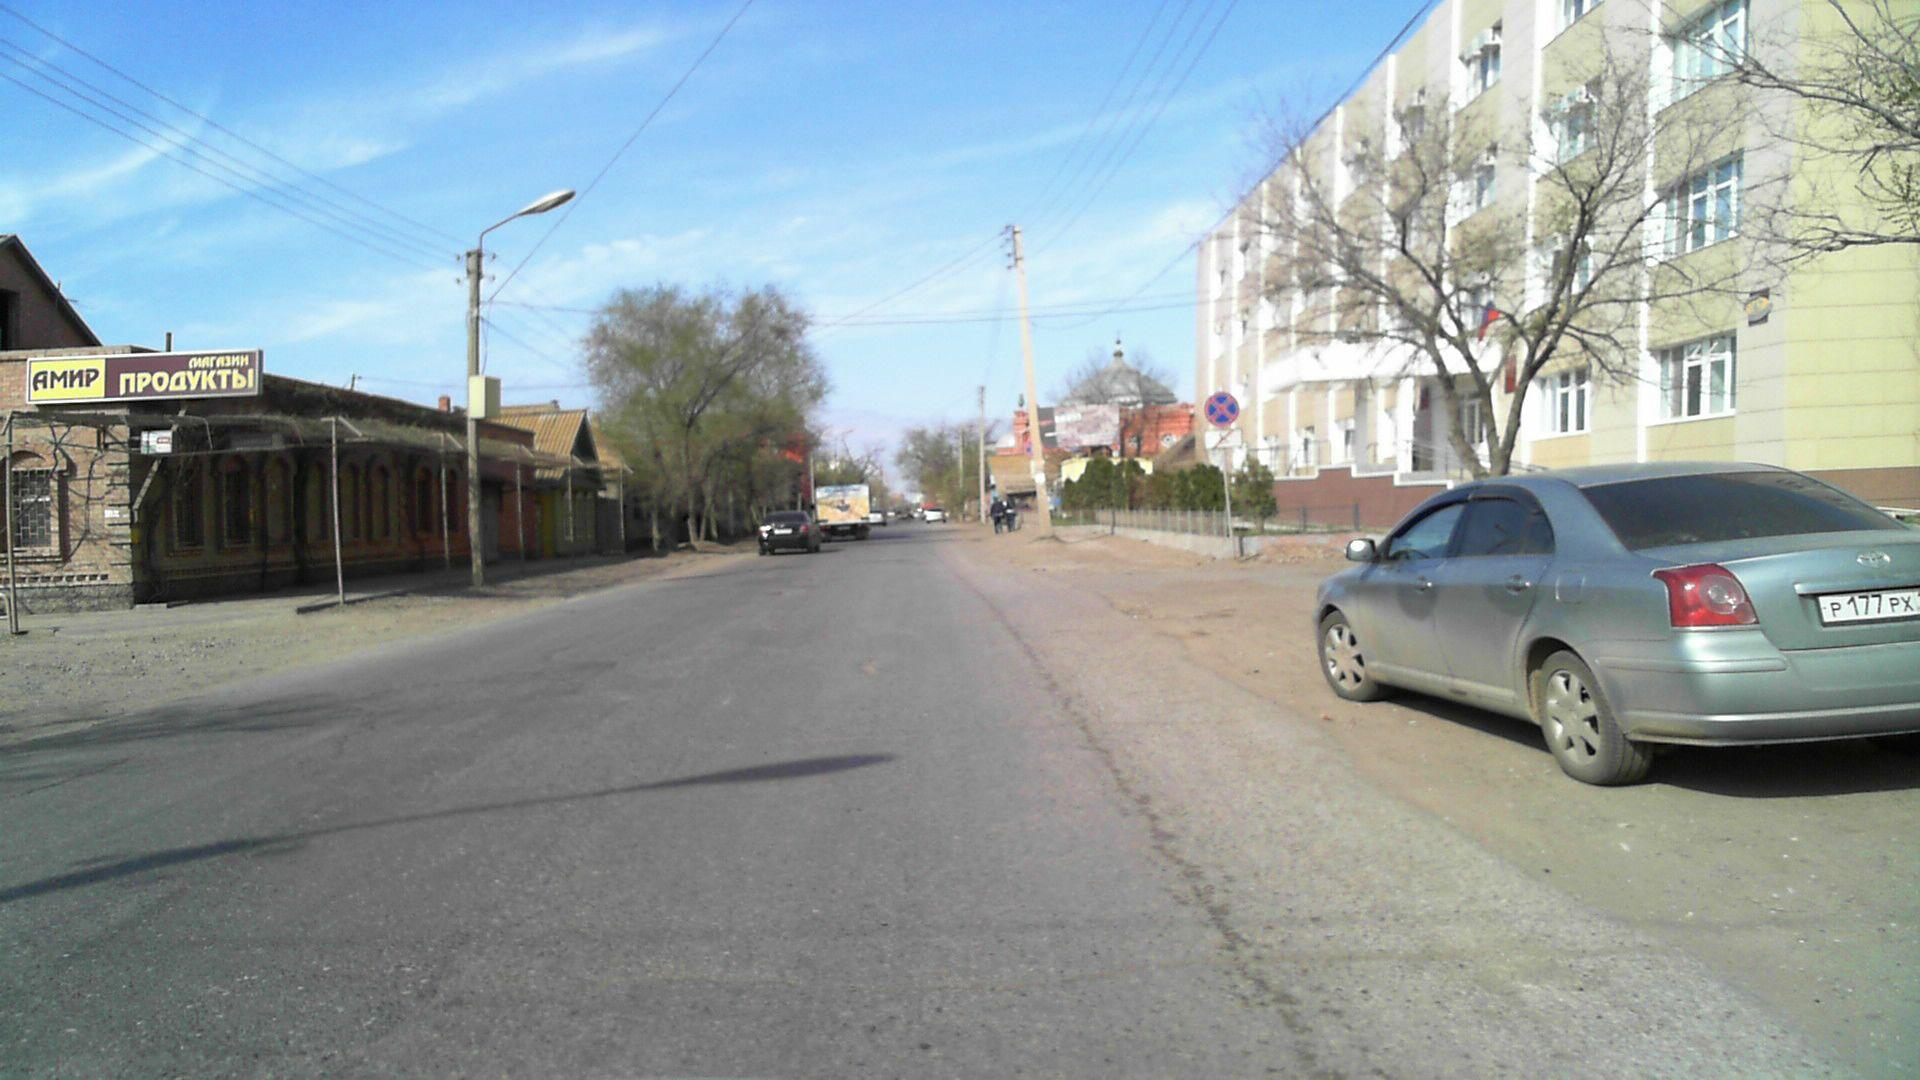3_27: (1203, 393, 1240, 427)
8_18: (1204, 431, 1242, 448)
